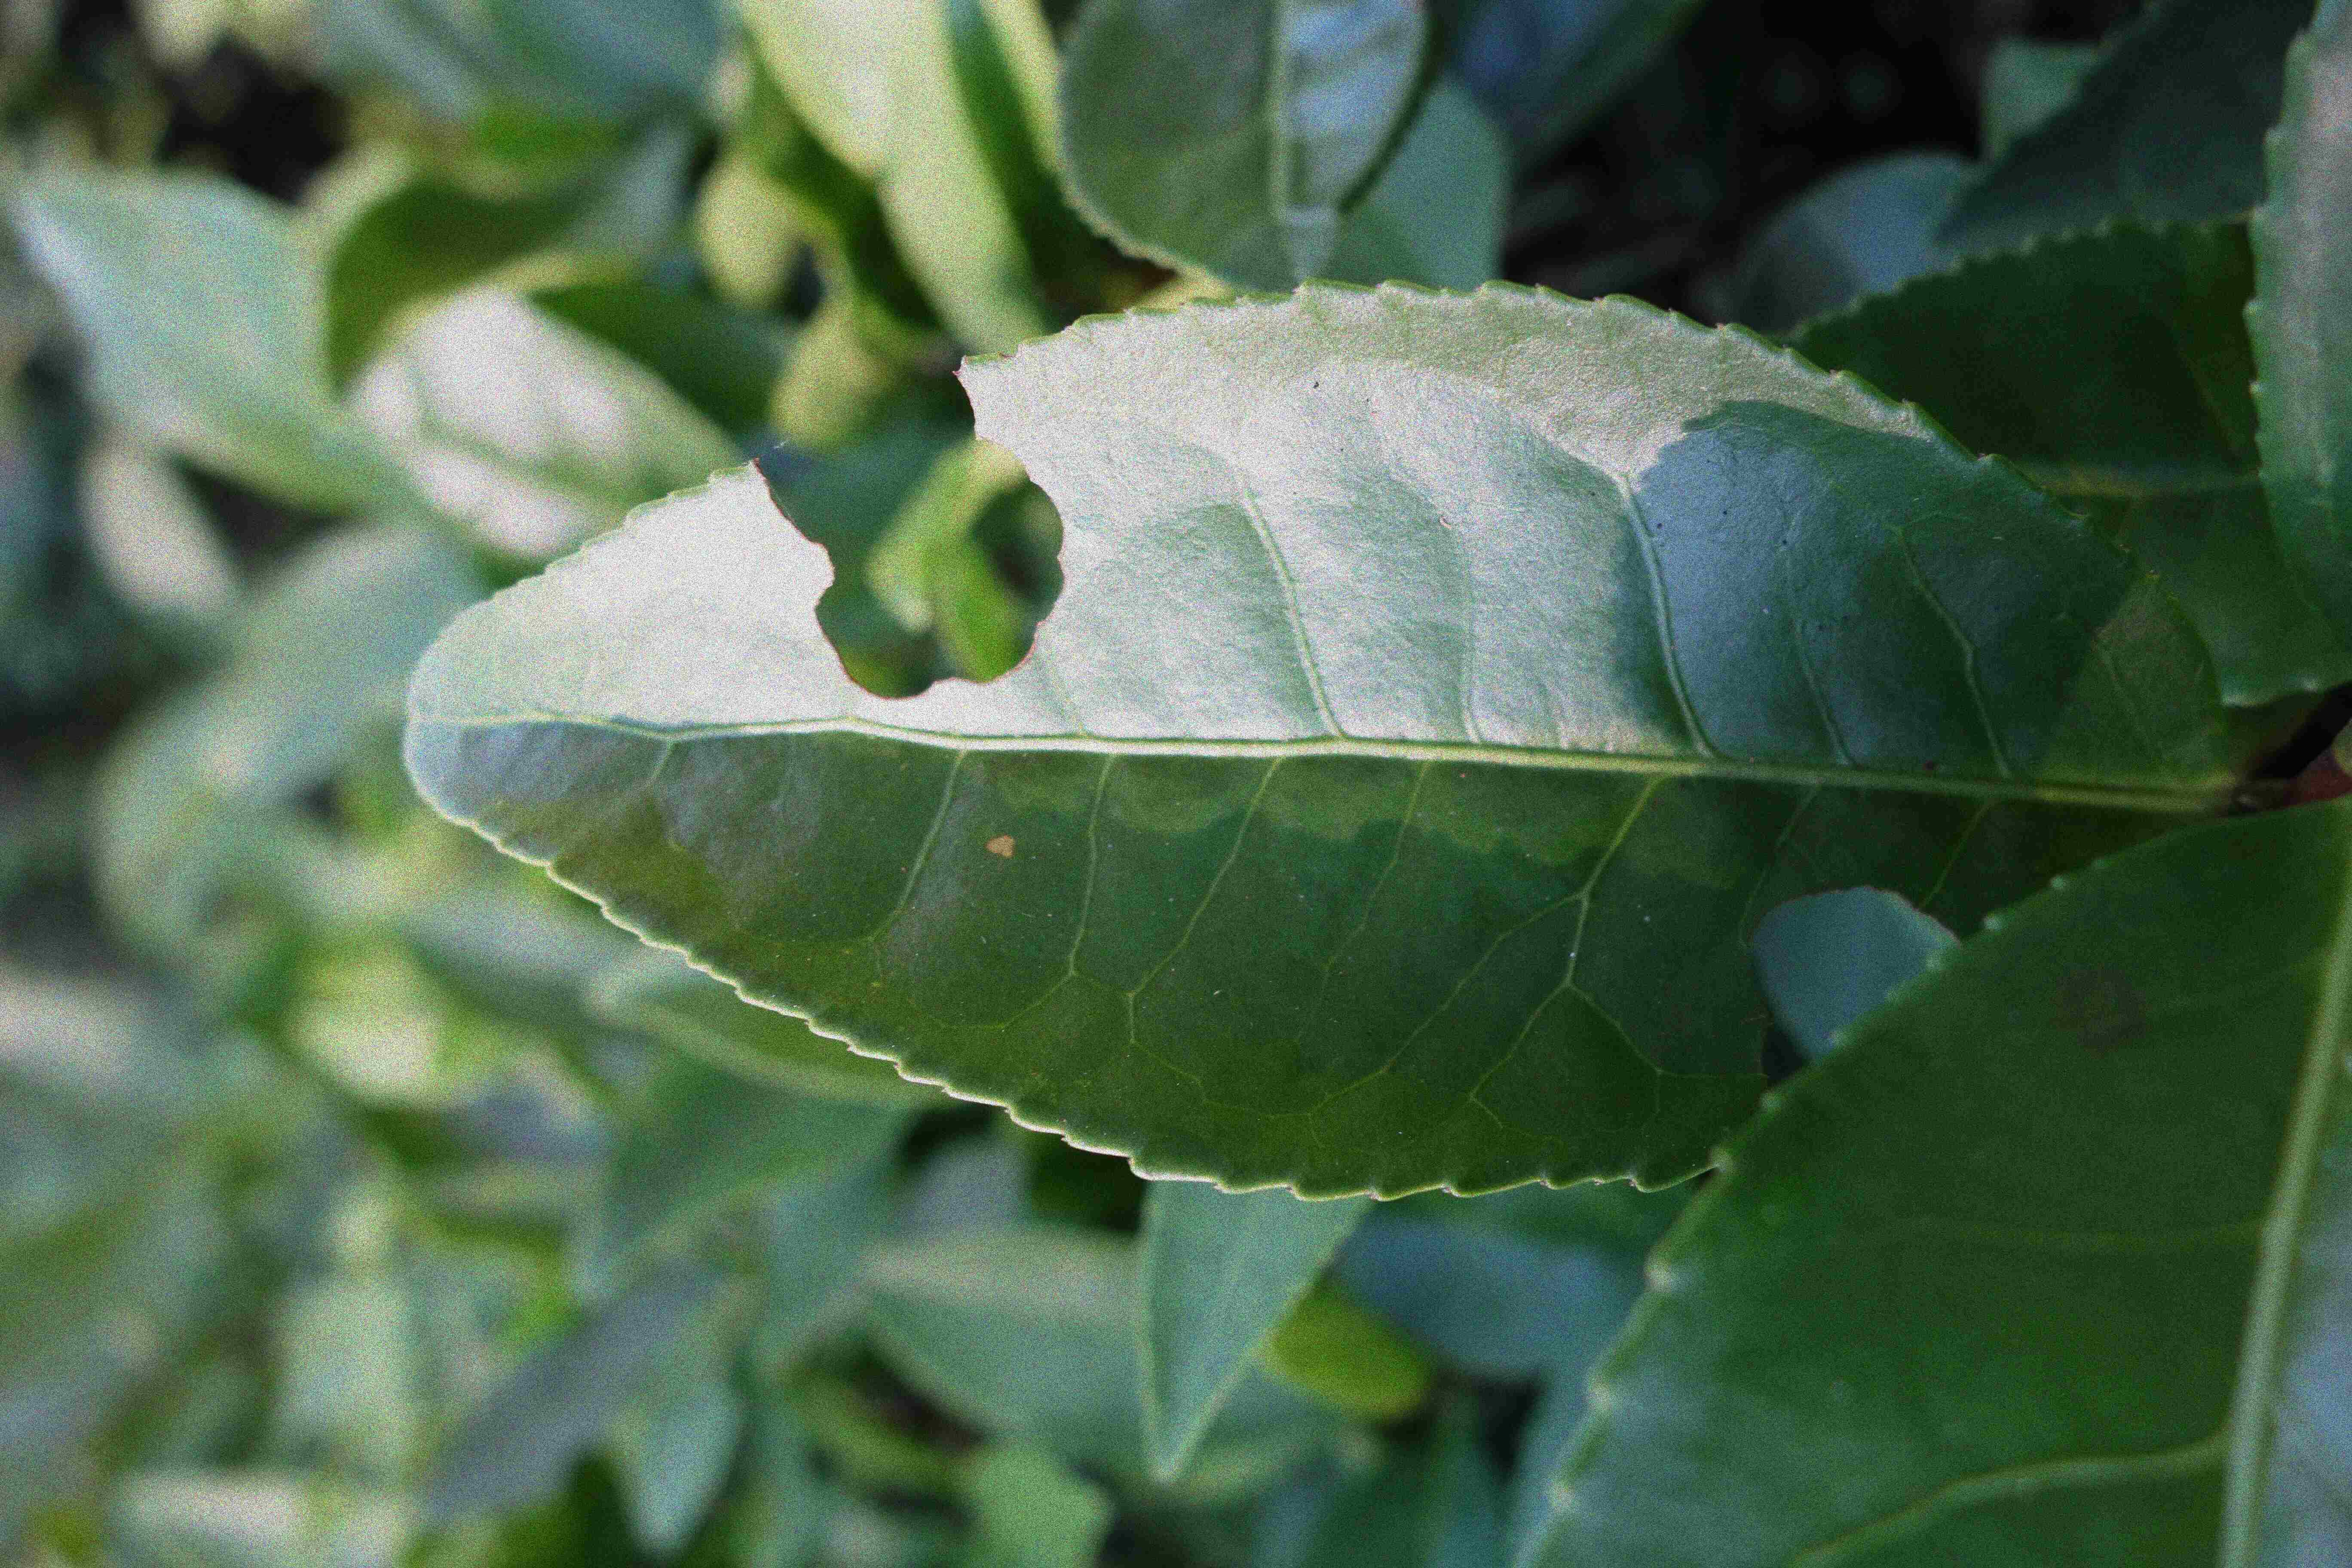chihuo_high: (392, 273, 2222, 1200)
